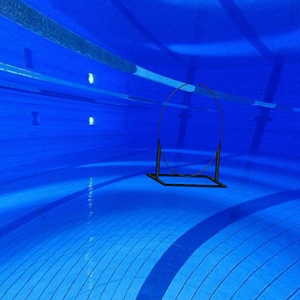circle: (145, 80, 229, 191)
